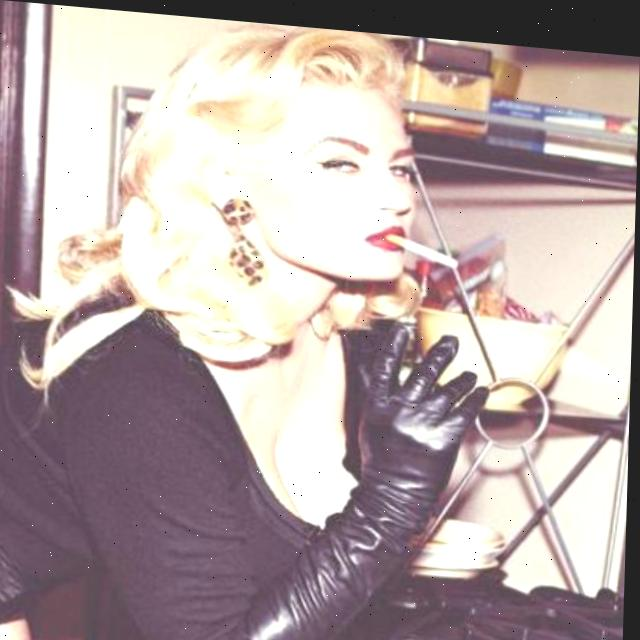cigarette: (388, 226, 462, 261)
